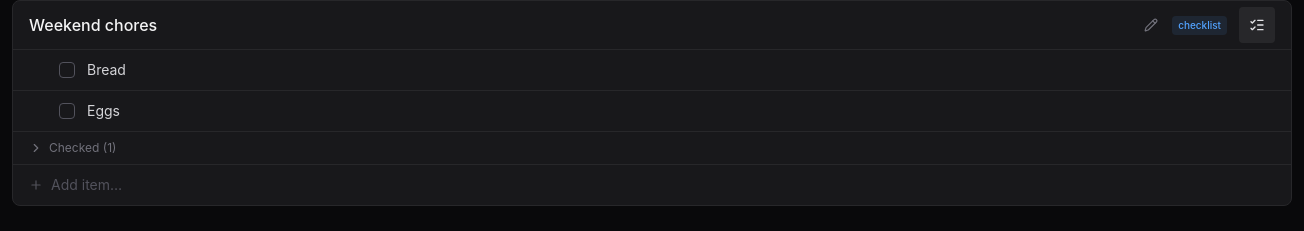
Test case: ListDetailPage checked pile › renders checked items in place when the pile is toggled off, and remembers it
The image size is (1304, 231).
Click the button named "Sink checked items into a pile": (1257, 25) x1=1239 y1=7 x2=1275 y2=43
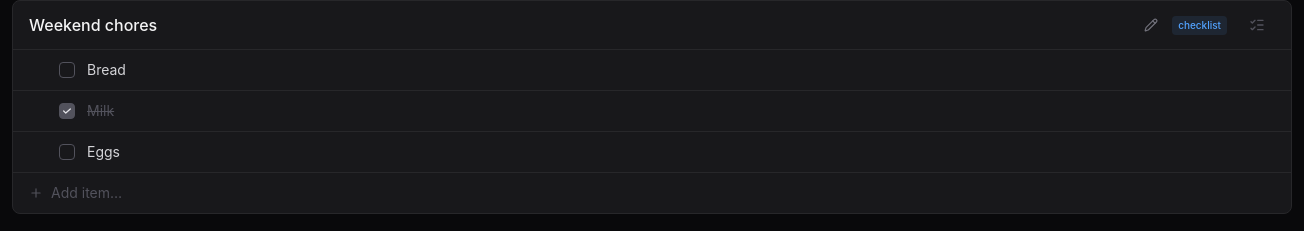
Now the text "Milk" is shown, box x1=87 y1=102 x2=114 y2=119
Now the button "Checked (1)" is gone
